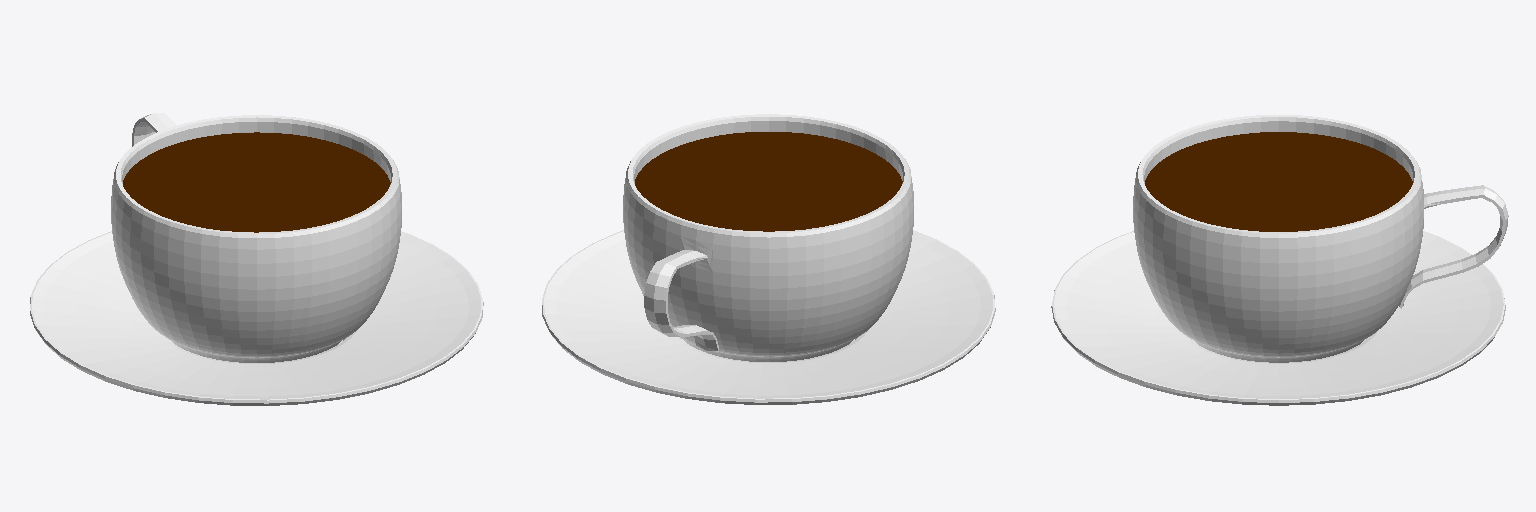
File: Cup2.obj
3 renders of one model, left to right at view 1: azimuth 30°, elevation 25°; view 2: azimuth 150°, elevation 25°; view 3: azimuth 270°, elevation 25°, orthographic.
Visible parts, largest first — view 1: Cup_Geo, Saucer_Geo, Coffee_geo; view 2: Cup_Geo, Saucer_Geo, Coffee_geo; view 3: Cup_Geo, Saucer_Geo, Coffee_geo.
Boxes of the visible parts, x1=… form: Cup_Geo: x1=111, y1=113, x2=401, y2=362; Saucer_Geo: x1=30, y1=231, x2=483, y2=405; Coffee_geo: x1=123, y1=132, x2=390, y2=232; Cup_Geo: x1=623, y1=114, x2=913, y2=361; Saucer_Geo: x1=542, y1=230, x2=995, y2=404; Coffee_geo: x1=635, y1=132, x2=902, y2=231; Cup_Geo: x1=1133, y1=115, x2=1508, y2=362; Saucer_Geo: x1=1051, y1=231, x2=1505, y2=405; Coffee_geo: x1=1145, y1=132, x2=1412, y2=231.
Size of the model in its own units: 7.06 by 2.8 by 7.1.